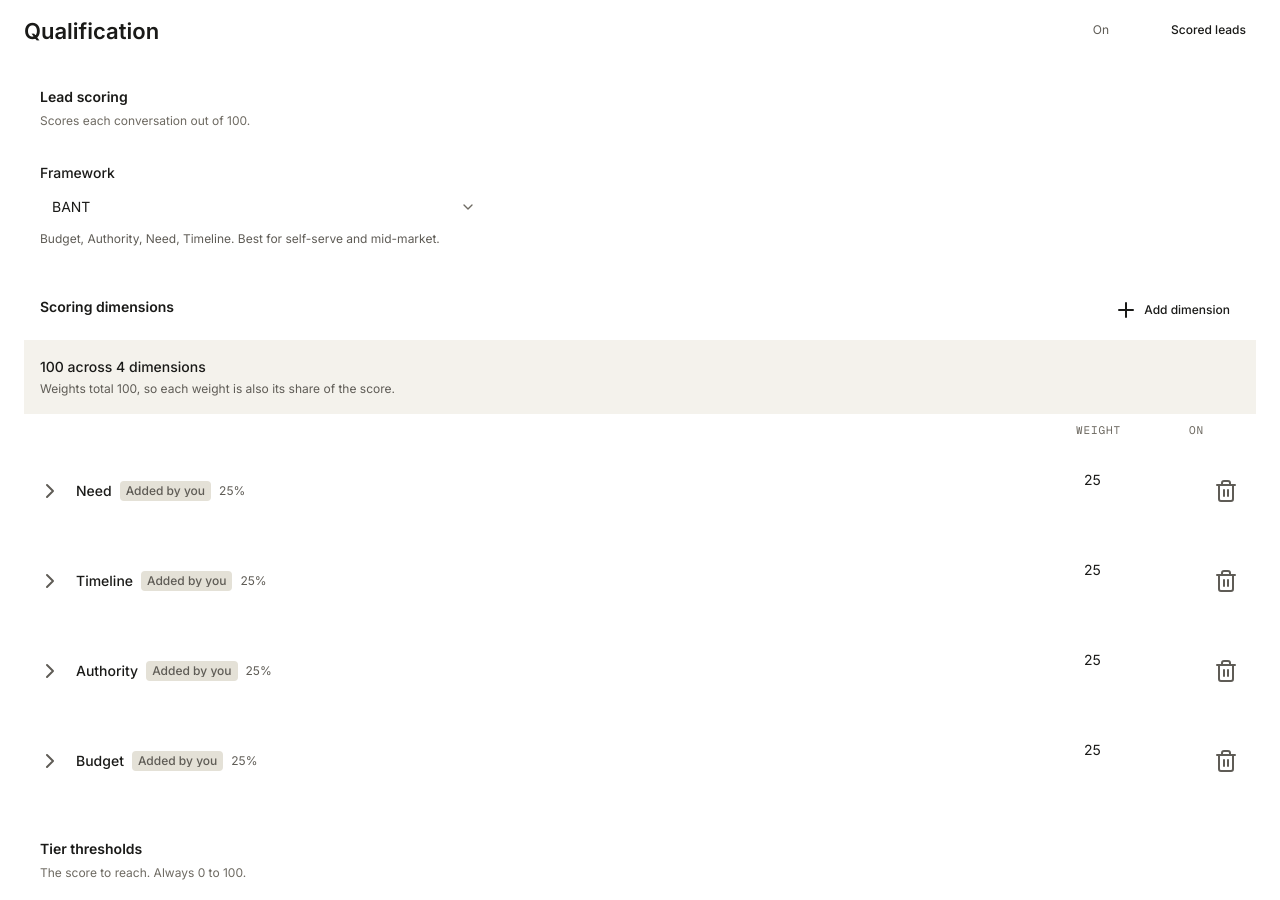
the framework picker › offers only the two frameworks the API will accept
The image size is (1280, 900).
Check: the heading "Scoring dimensions" is shown, box [40,296,174,318]
Click the dropdown named "Framework".
click(71, 206)  # box [40,190,488,224]
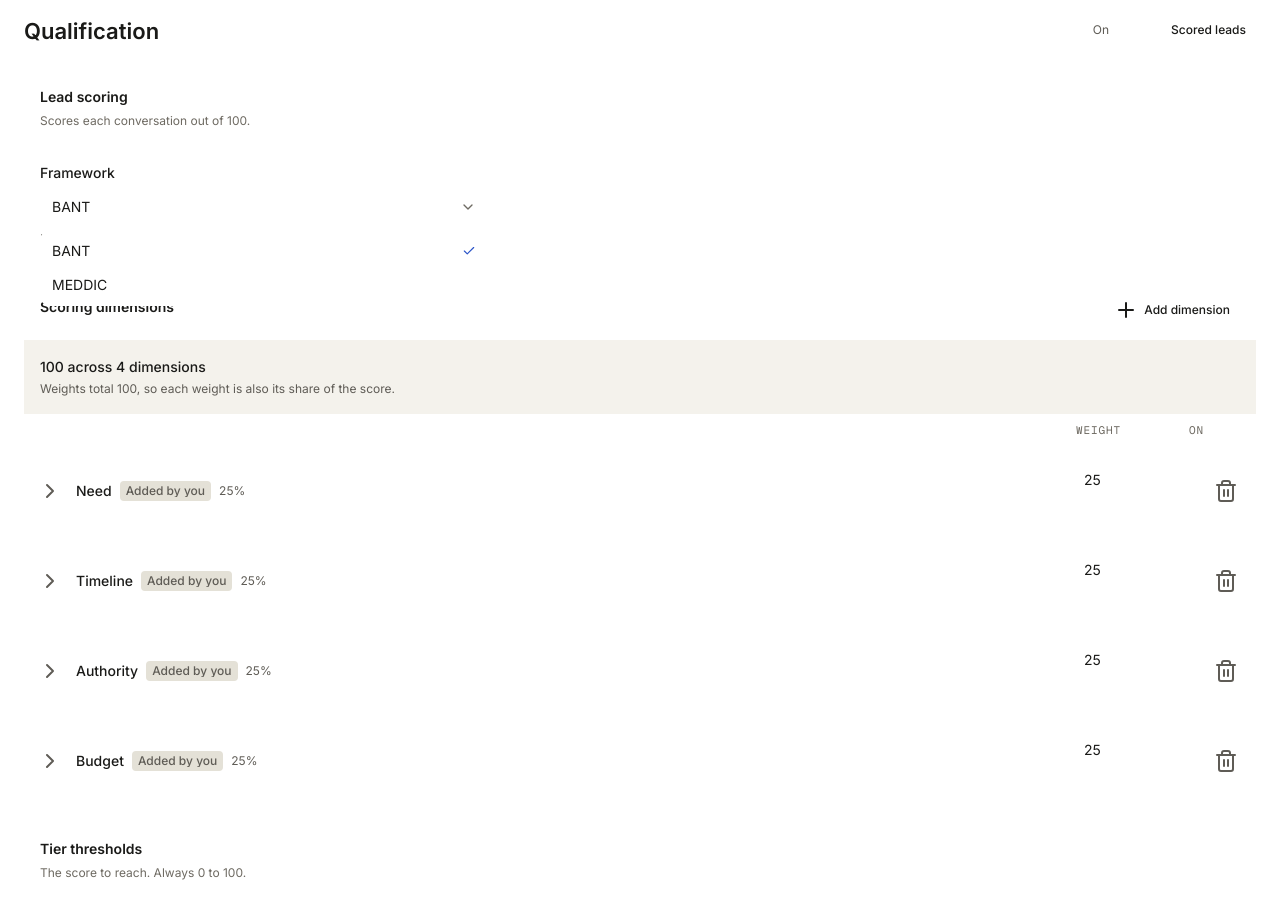
Check: the options read "BANT", "MEDDIC", in this order, box [52,242,476,259]; [52,276,107,293]
